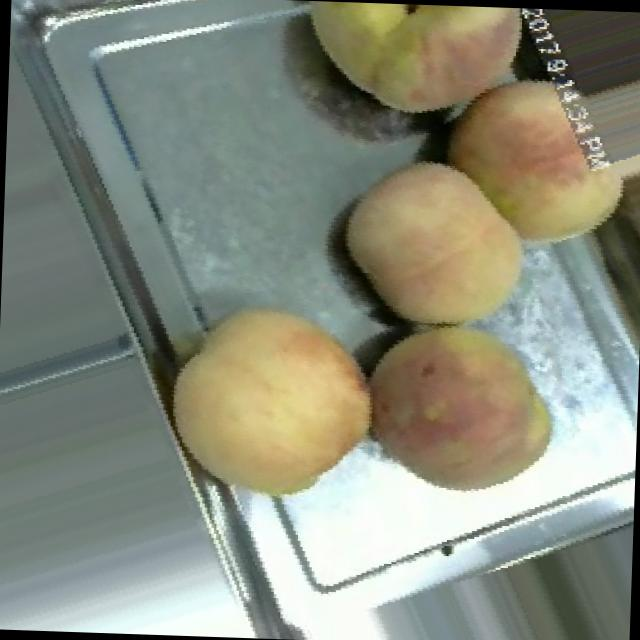Fruit: (139, 270, 401, 529), (317, 126, 562, 346), (413, 43, 640, 279), (334, 307, 580, 523), (273, 0, 564, 150)
